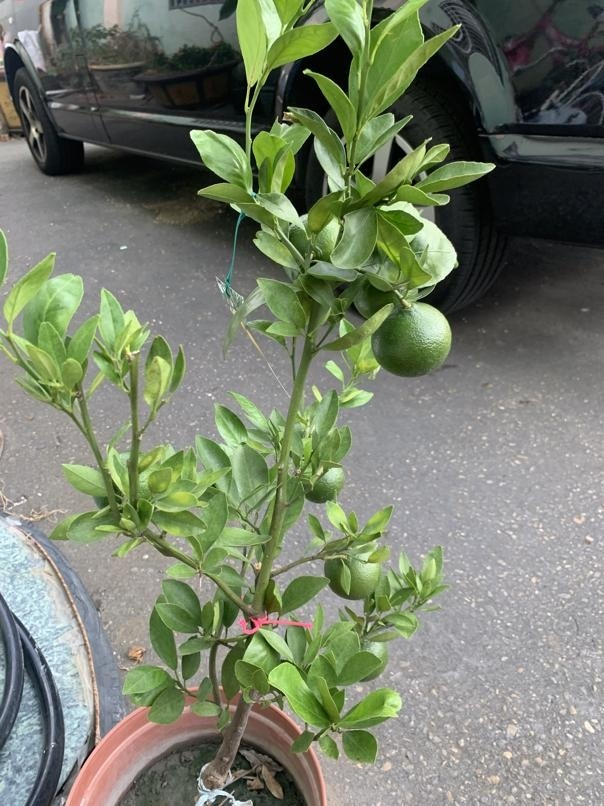Tangerine: (369, 298, 454, 379)
